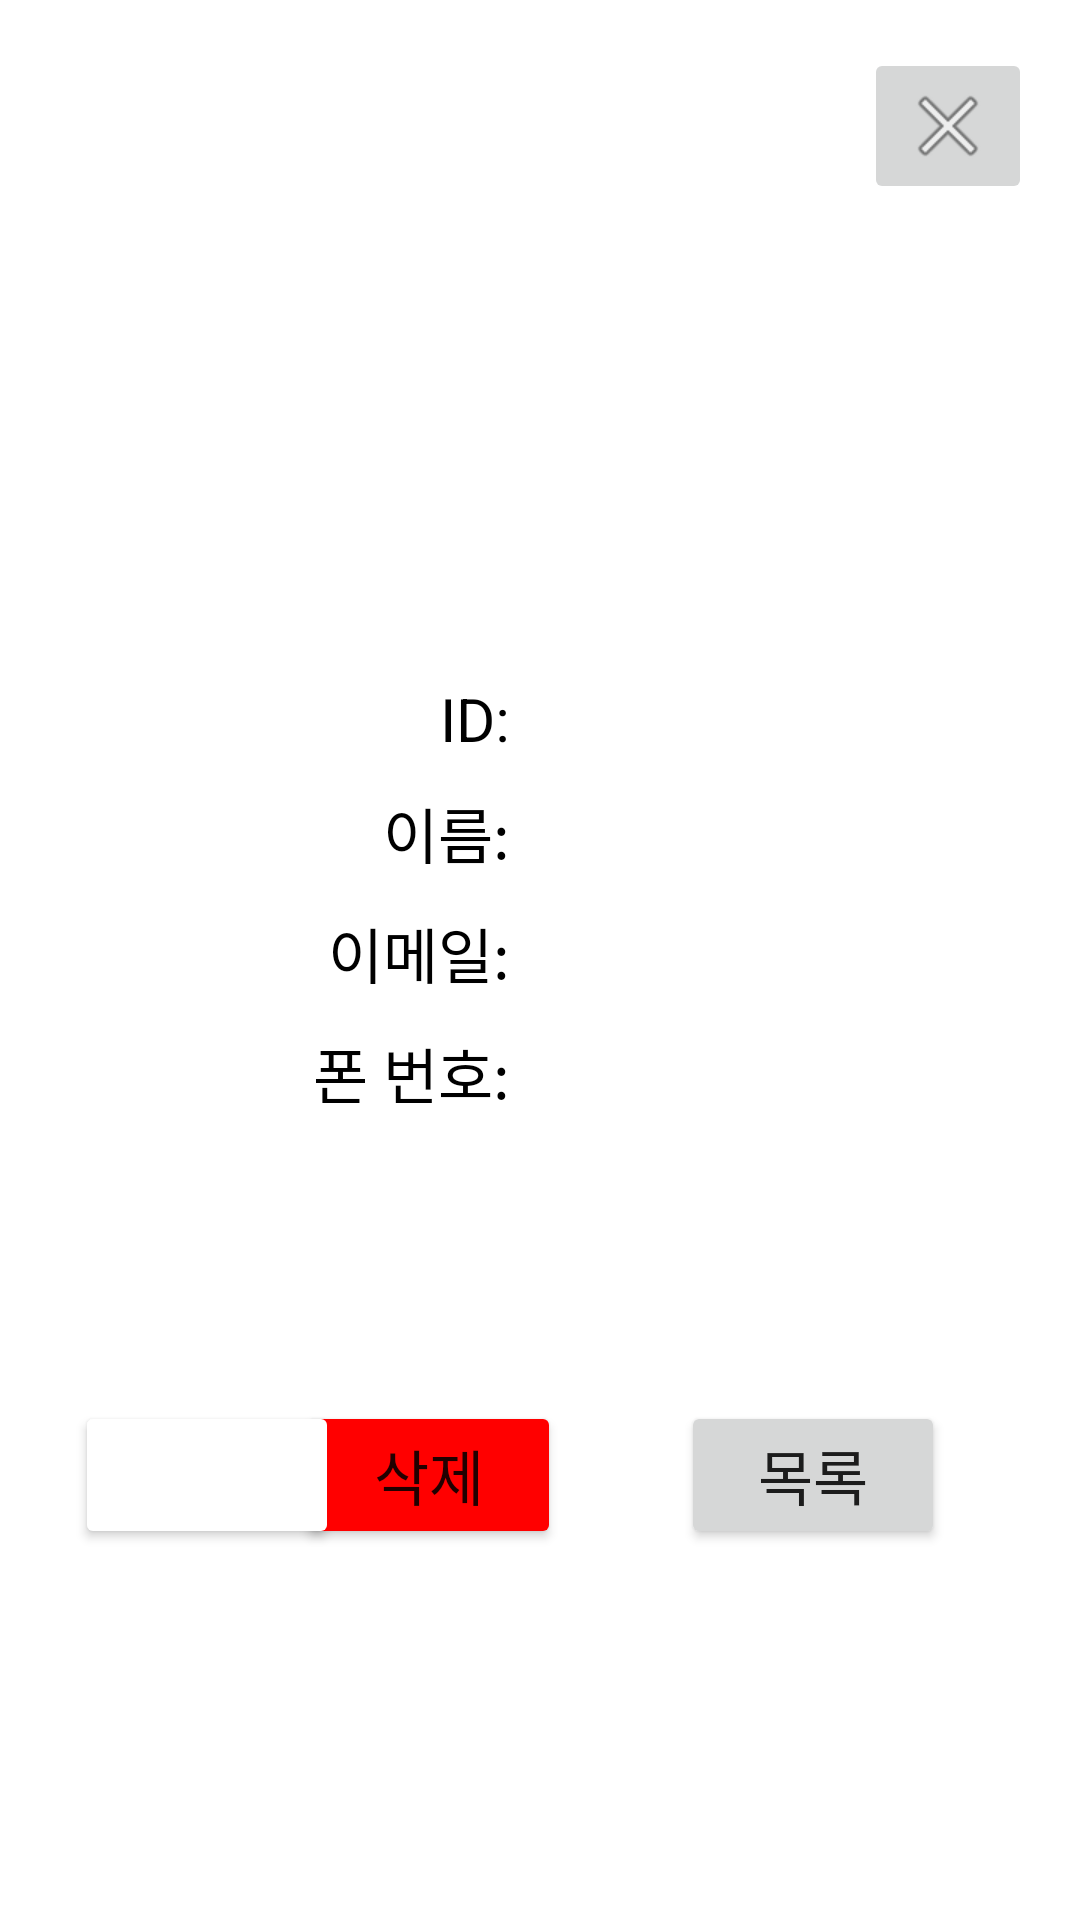

Where icons sit on this 1080px×1920px app screen, as (x1, y1, x2, y2):
close clear cancel: (876, 66, 1020, 186)
